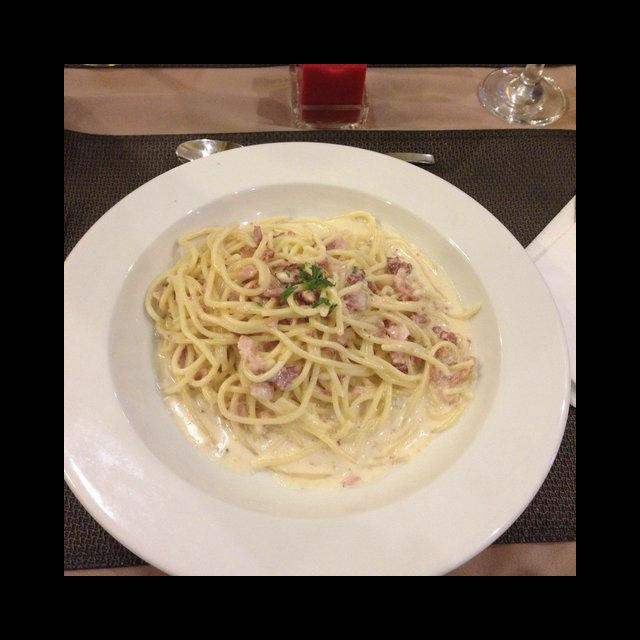noodles: (145, 208, 486, 484)
